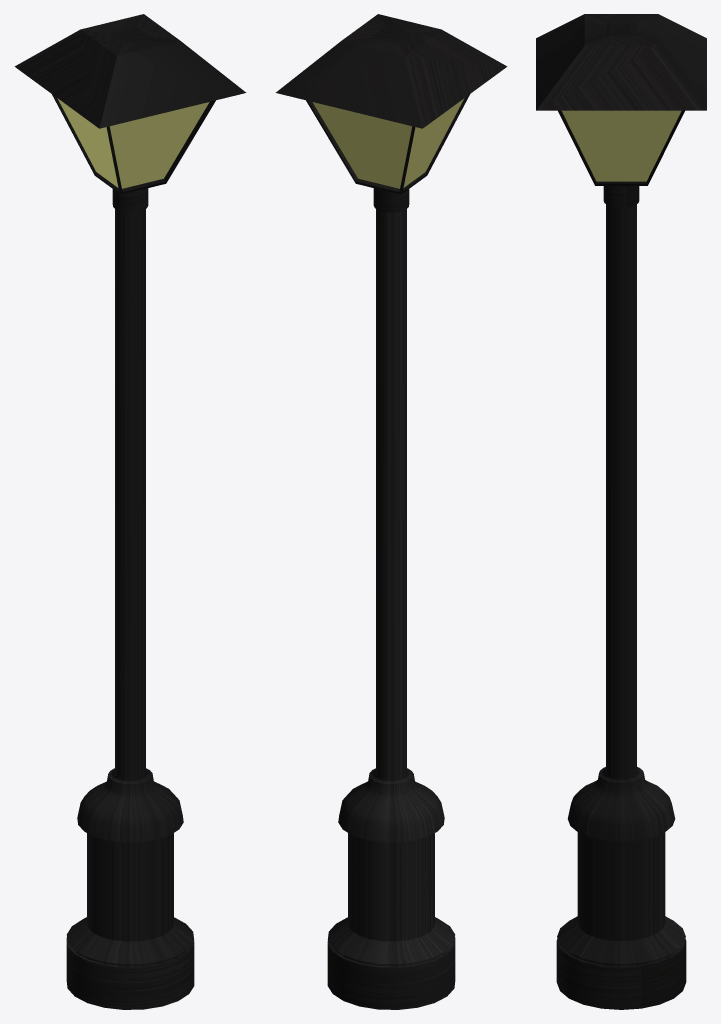
The model's file is streetlamp.obj.
3 renders of one model, left to right at view 1: azimuth 30°, elevation 25°; view 2: azimuth 150°, elevation 25°; view 3: azimuth 270°, elevation 25°, orthographic.
Parts seen in each view (by area): view 1: streetlamp; view 2: streetlamp; view 3: streetlamp.
Boxes of the visible parts, x1,y1,x2,y2 form: streetlamp: [14, 14, 246, 1009]; streetlamp: [275, 14, 507, 1009]; streetlamp: [536, 14, 706, 1009].
Size of the model in its own units: 1.68 by 10.37 by 1.68.
1 material, 1 textured.
